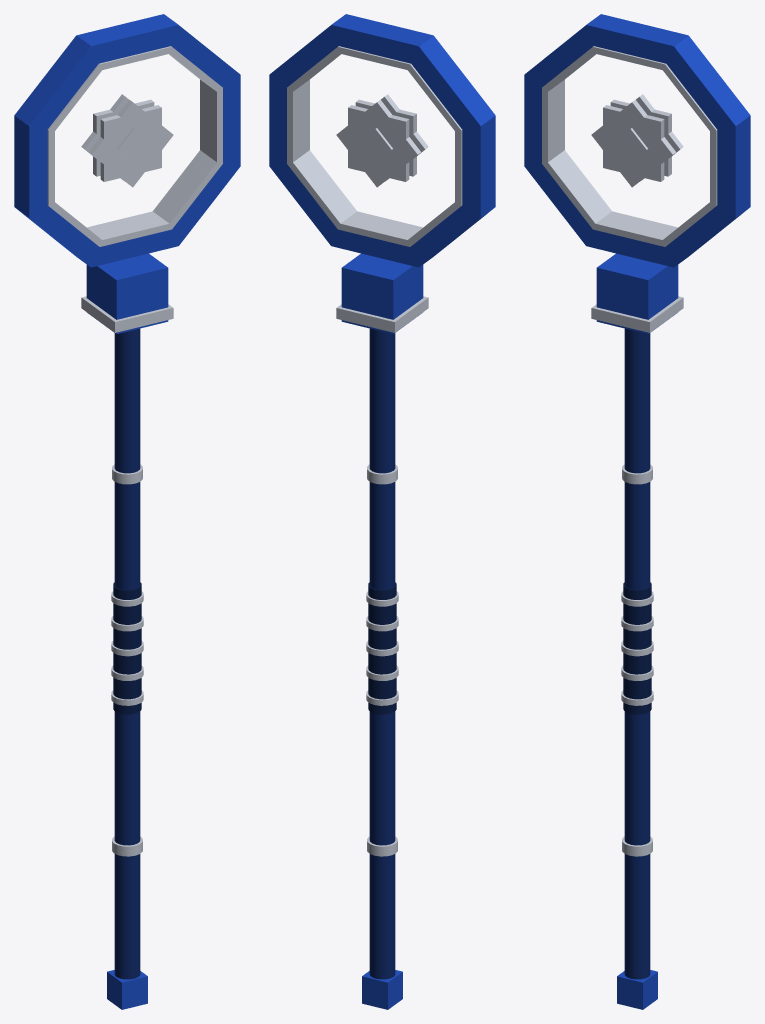
3 renders of one model, left to right at view 1: azimuth 30°, elevation 25°; view 2: azimuth 150°, elevation 25°; view 3: azimuth 330°, elevation 25°, orthographic.
Visible parts, largest first — view 1: astral-scepter; view 2: astral-scepter; view 3: astral-scepter.
Boxes of the visible parts, bbox=[...] form: astral-scepter: bbox=[14, 14, 240, 1009]; astral-scepter: bbox=[269, 14, 495, 1009]; astral-scepter: bbox=[524, 14, 750, 1009].
Bounding box in the file's own units: 0.3499 × 1.53 × 0.0966.
